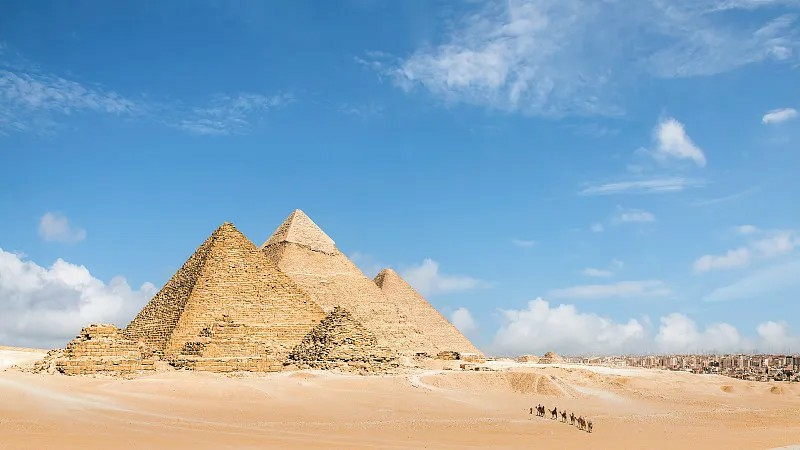Pyramid: (123, 221, 328, 365), (261, 209, 443, 356), (374, 267, 482, 358), (289, 305, 402, 370), (171, 314, 284, 370), (46, 324, 155, 372)
